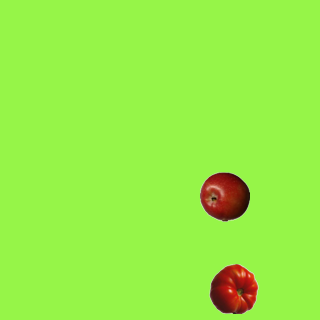Apple Braeburn: (199, 171, 249, 221)
Tomato 3: (208, 263, 258, 313)
